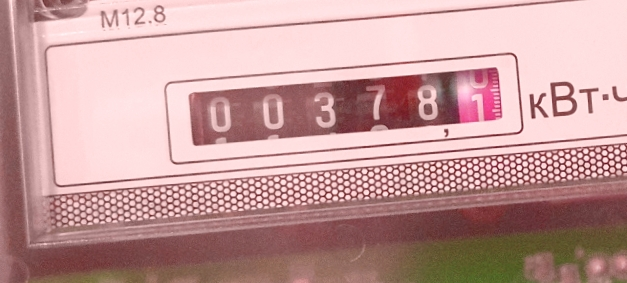0: (206, 91, 236, 133), (259, 90, 286, 130), (467, 66, 490, 89)
1: (468, 89, 488, 122)
3: (311, 88, 338, 129)
7: (363, 81, 388, 121)
8: (414, 80, 440, 122)
screen: (167, 47, 523, 156)
